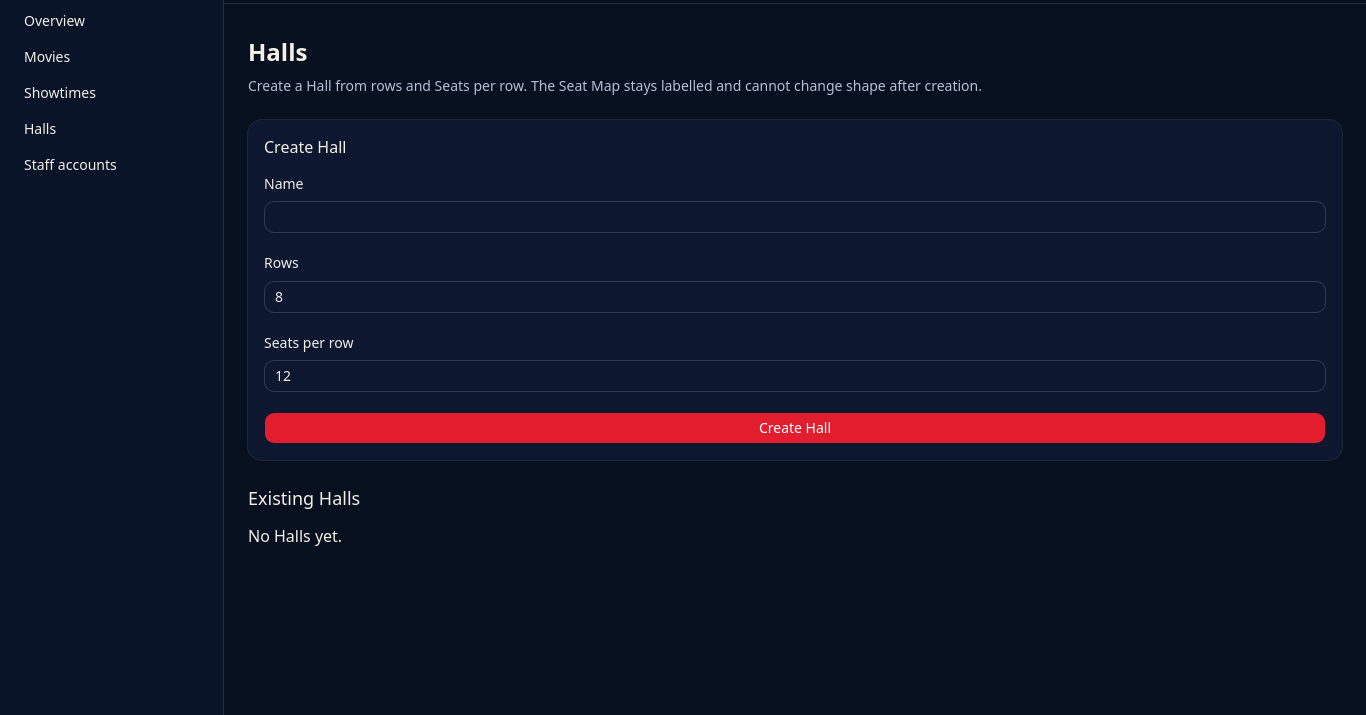
Test case: HallsPage › lets an Administrator create a Hall and operate its Seat Map
Expected: the heading "Halls" is shown, 248,35 -> 307,68
Type "Hall 1" into the field labelled "Name" at (795, 217), box 264,201 -> 1326,233
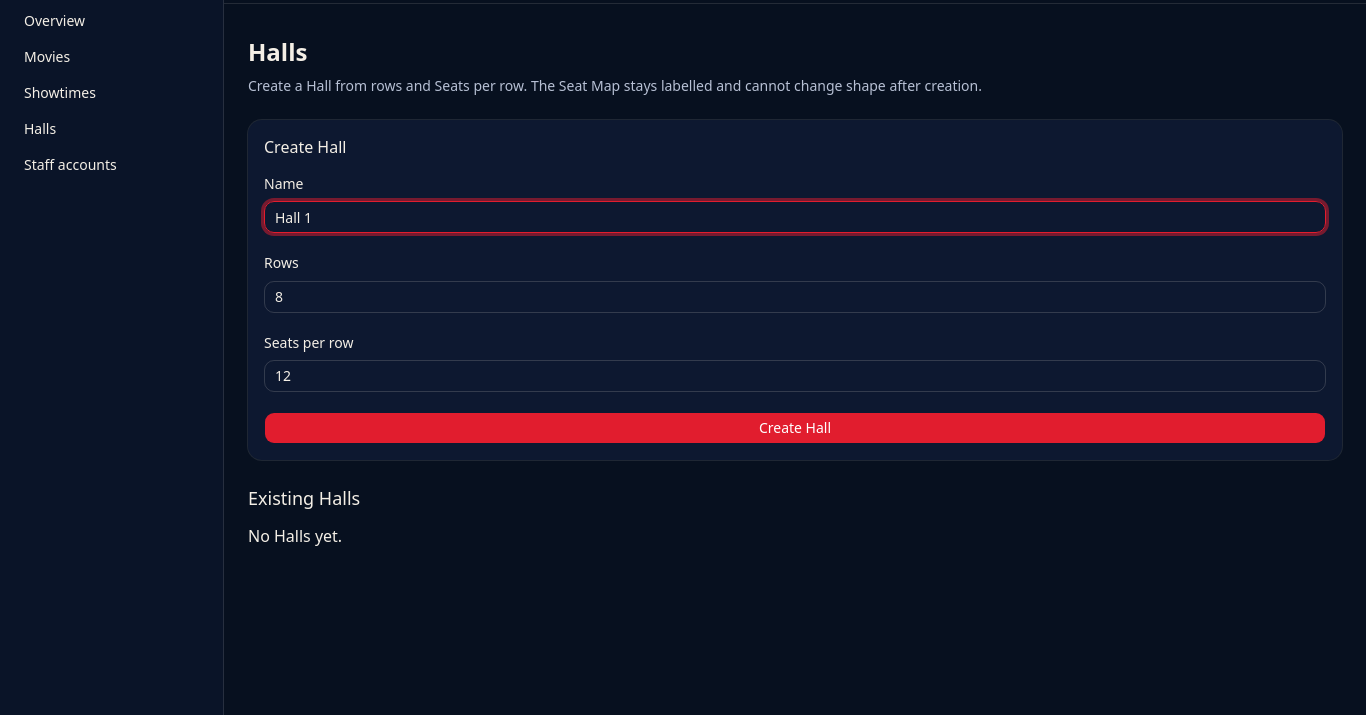
Replace the text in the number field labelled "Rows" with "2" at (795, 296), box 264,280 -> 1326,312
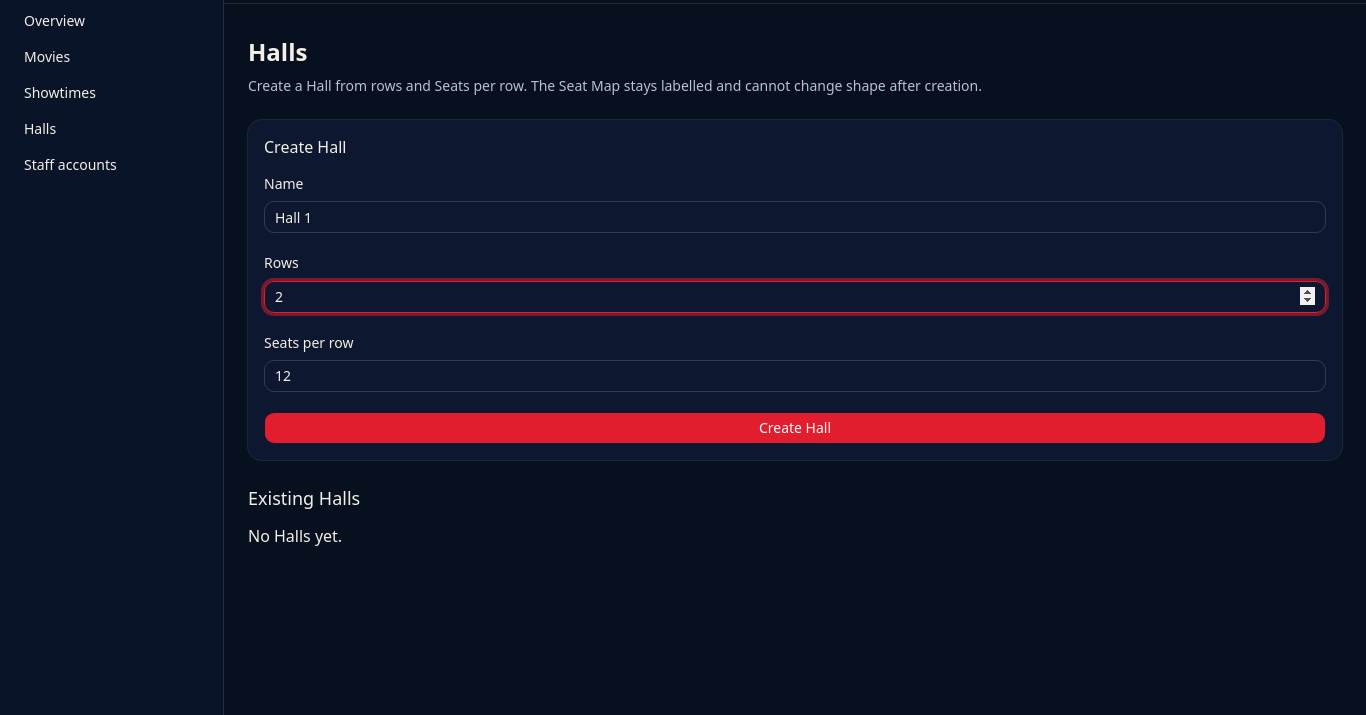
Replace the text in the number field labelled "Seats per row" with "2" at (795, 376), box 264,360 -> 1326,392
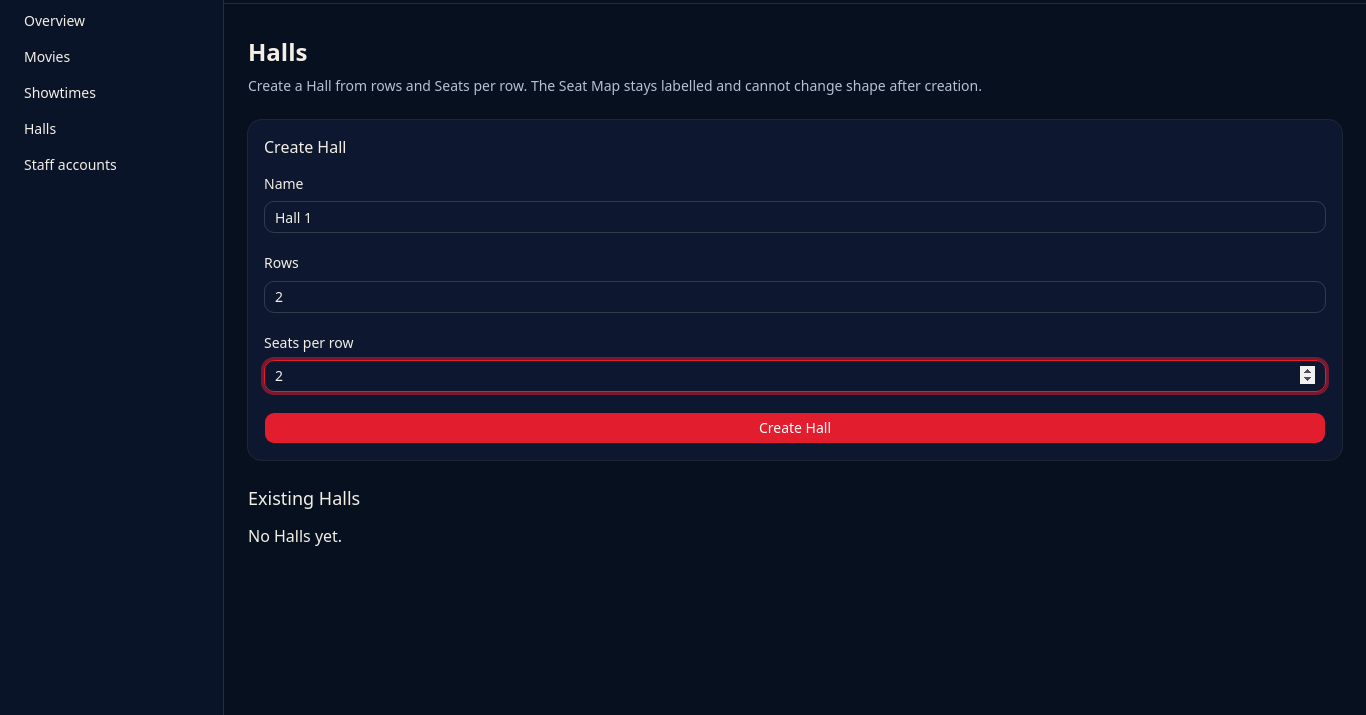
Click the button "Create Hall" at (795, 428), box 264,412 -> 1326,444
(page scrolled)
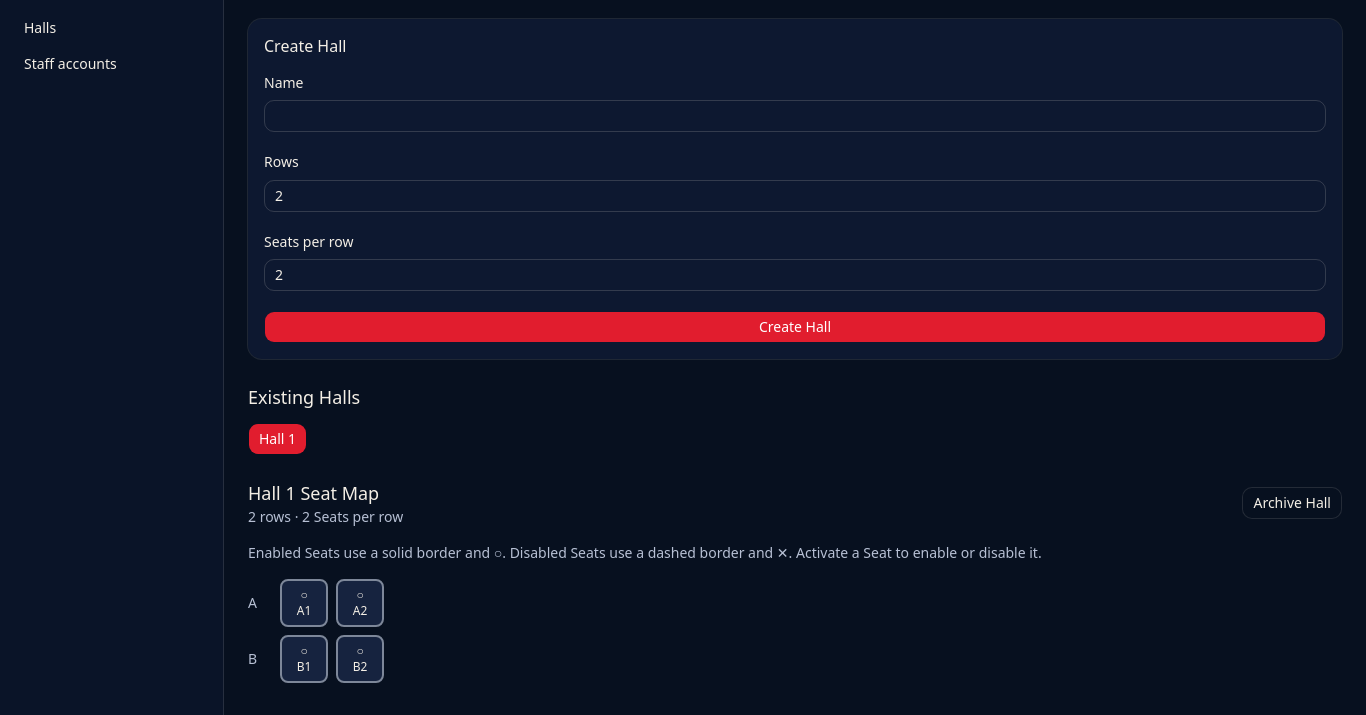
Result: the heading "Hall 1 Seat Map" is shown at 248,481 -> 379,505
Result: the button named "Seat A1, enabled" is shown
Result: the button named "Seat B2, enabled" is shown at 336,635 -> 384,683
Click the button named "Seat A1, enabled" at (304, 603), box 280,579 -> 328,627
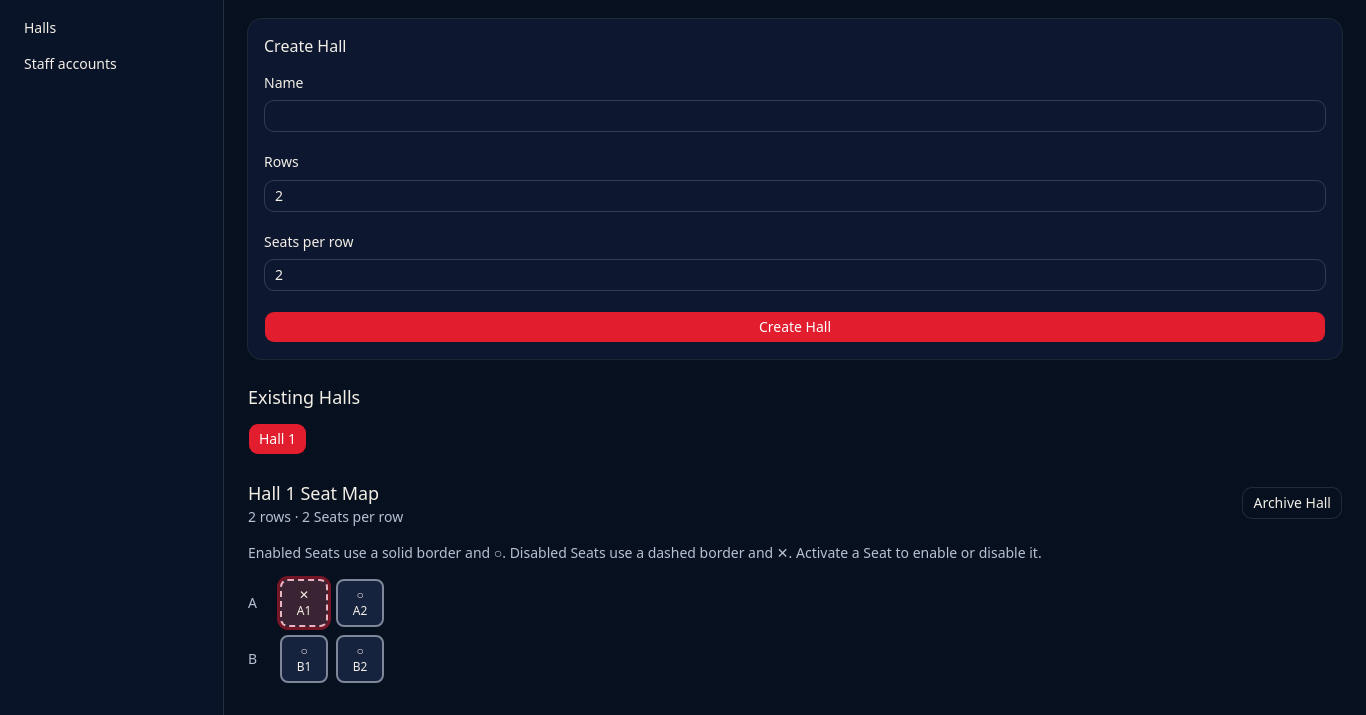
Result: the button named "Seat A1, disabled" is shown at 280,579 -> 328,627
Click the button "Archive Hall" at (1292, 503), box 1242,487 -> 1342,519
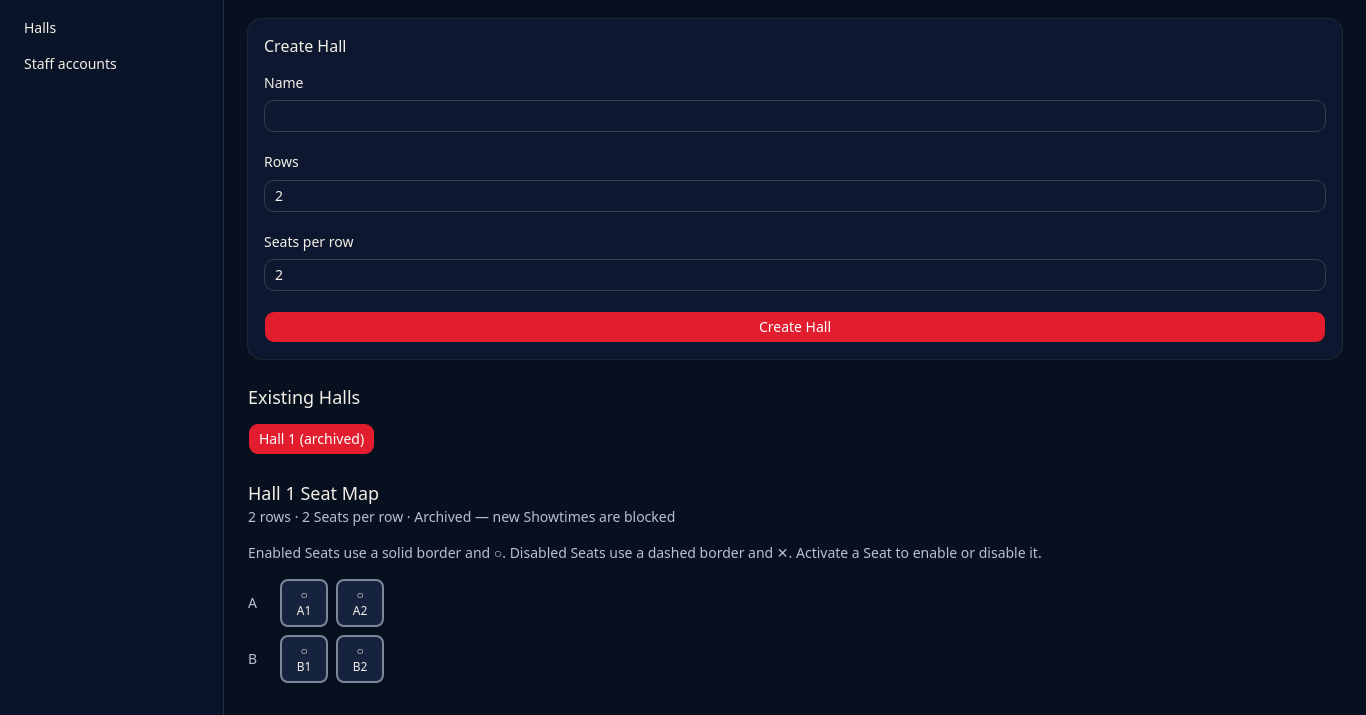
Result: the text "Archived — new Showtimes are blocked" is shown at 403,507 -> 675,526
